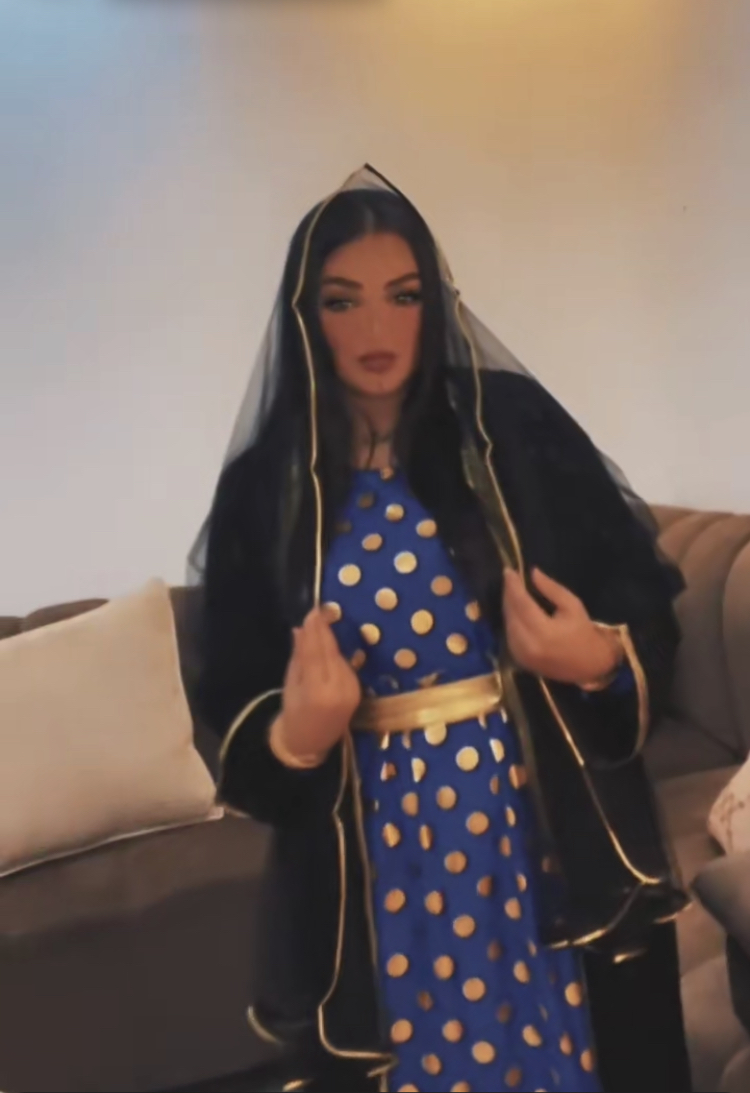Saudi_Founding_Day: (166, 156, 702, 1093)
